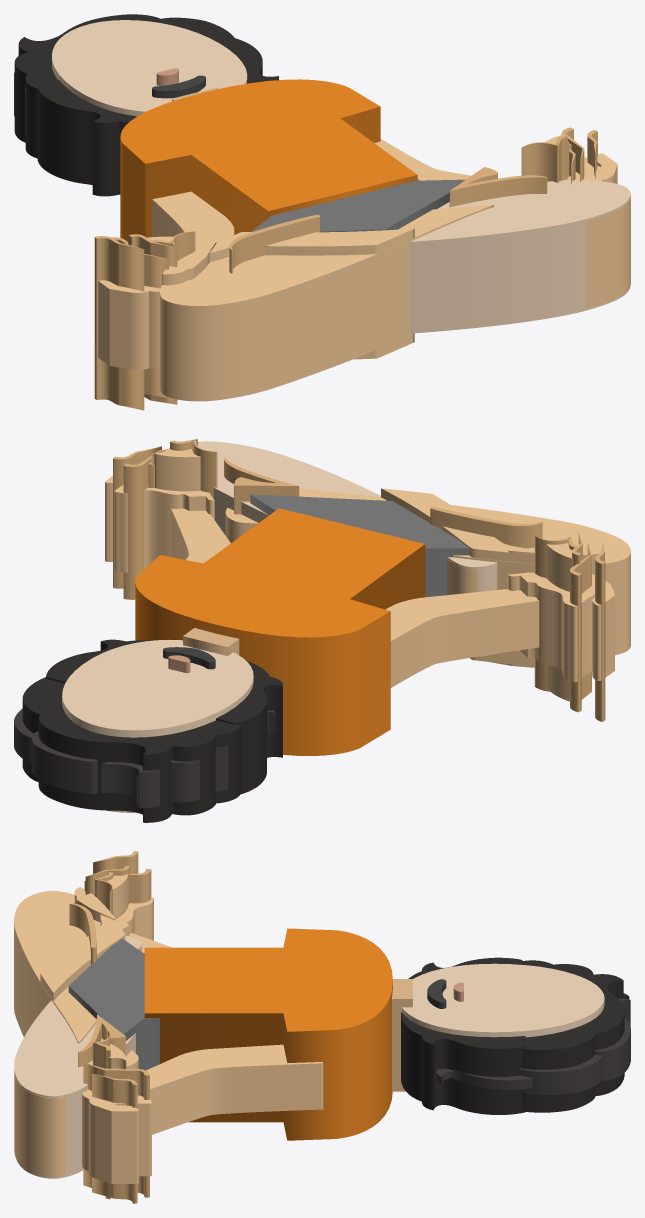
Rendered from emoji_u1f9d8_1f3fb.glb.
The picture shows the model from 3 angles, top to bottom: view 1: azimuth 30°, elevation 25°; view 2: azimuth 150°, elevation 25°; view 3: azimuth 270°, elevation 25°; orthographic projection. The views are drawn at different scales.
Visible parts, largest first — view 1: emoji_u1f9d8_1f3fb; view 2: emoji_u1f9d8_1f3fb; view 3: emoji_u1f9d8_1f3fb.
Boxes of the visible parts, x1,y1,x2,y2 form: emoji_u1f9d8_1f3fb: (14, 14, 630, 410); emoji_u1f9d8_1f3fb: (14, 439, 630, 822); emoji_u1f9d8_1f3fb: (14, 851, 630, 1203).
Size of the model in its own units: 0.029 by 0.009 by 0.0339.
